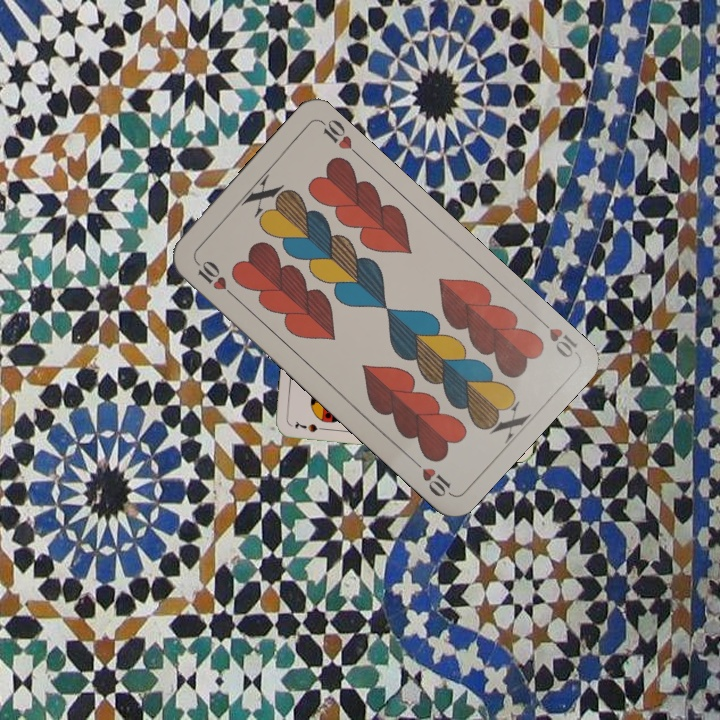H10: (532, 312, 580, 361), (191, 256, 238, 301)
S7: (291, 417, 329, 435)
